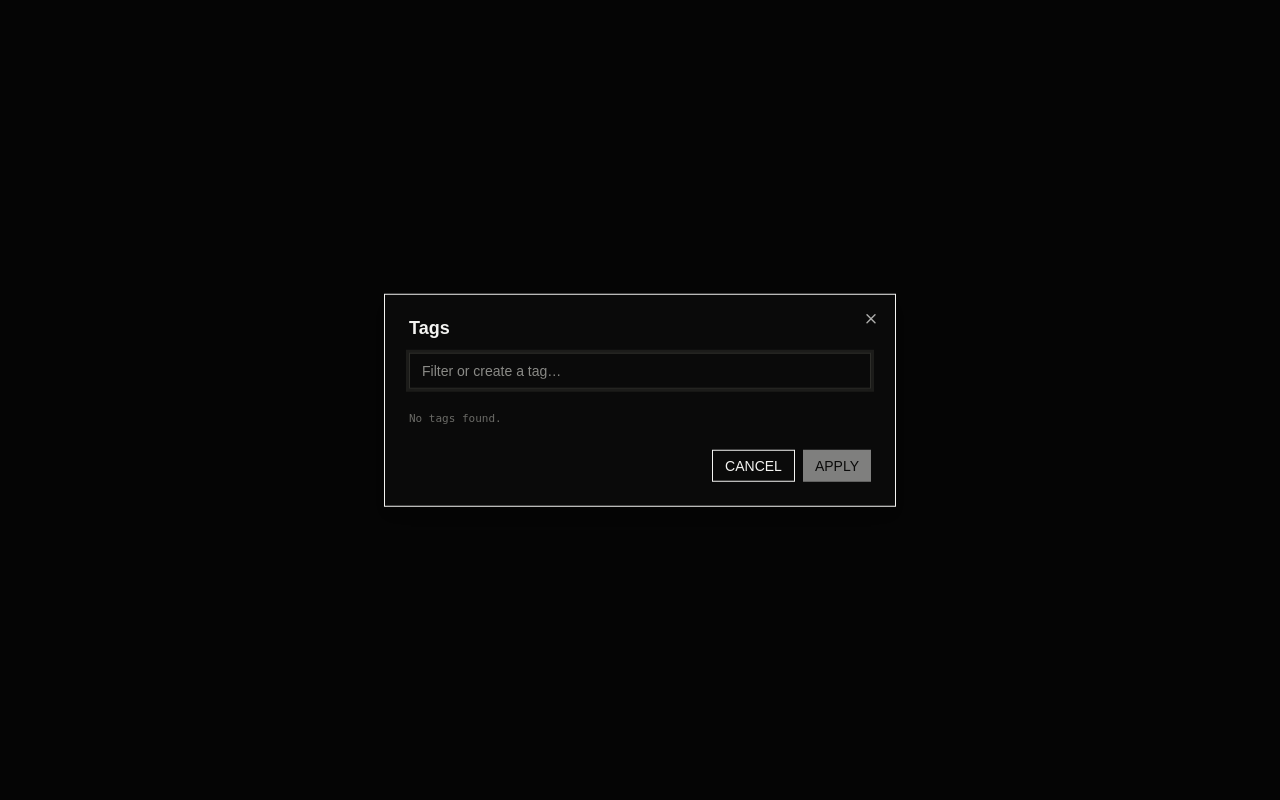
Test: clicking a staged create's checkbox unstages it
Type "Sunset" into the field with placeholder "Filter or create a tag…". click: (640, 371)
box: 409,353 -> 871,389
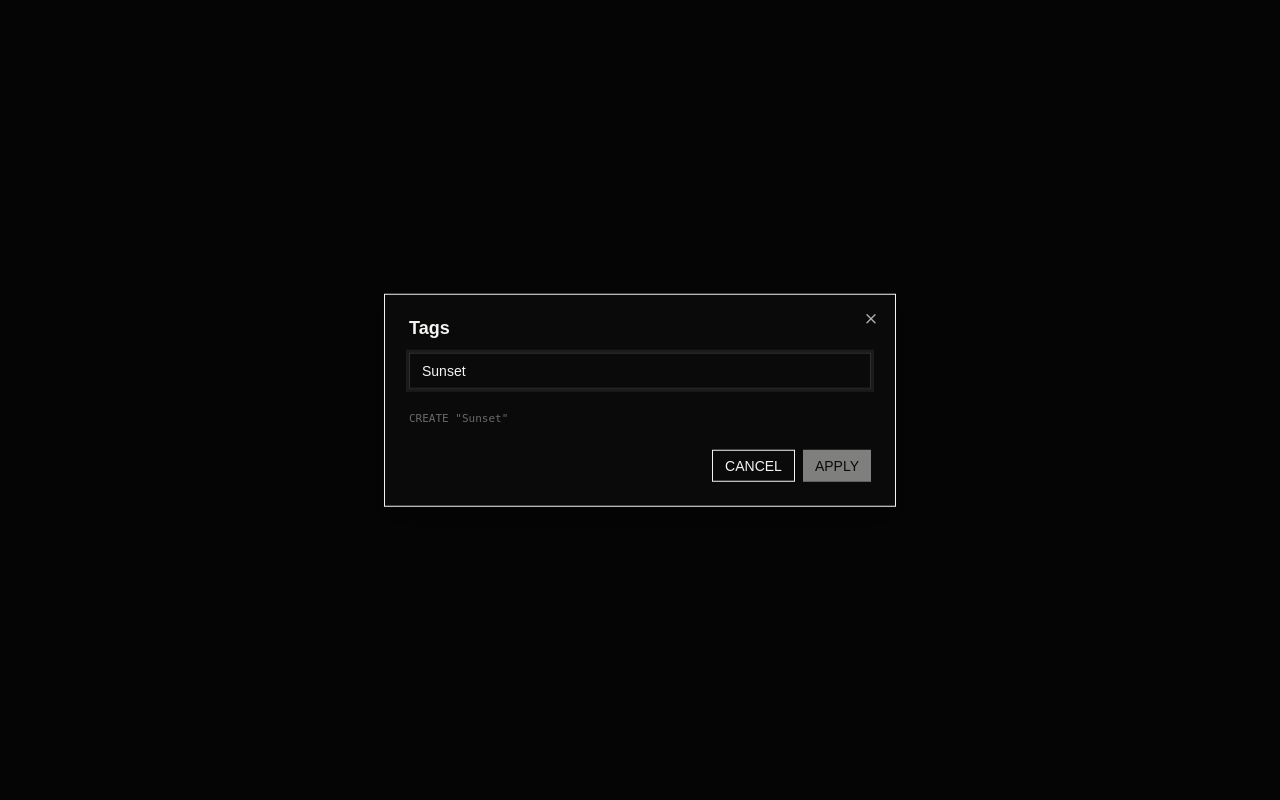
Click the button "CREATE \"Sunset\"". click: (435, 418)
box: 409,405 -> 871,433
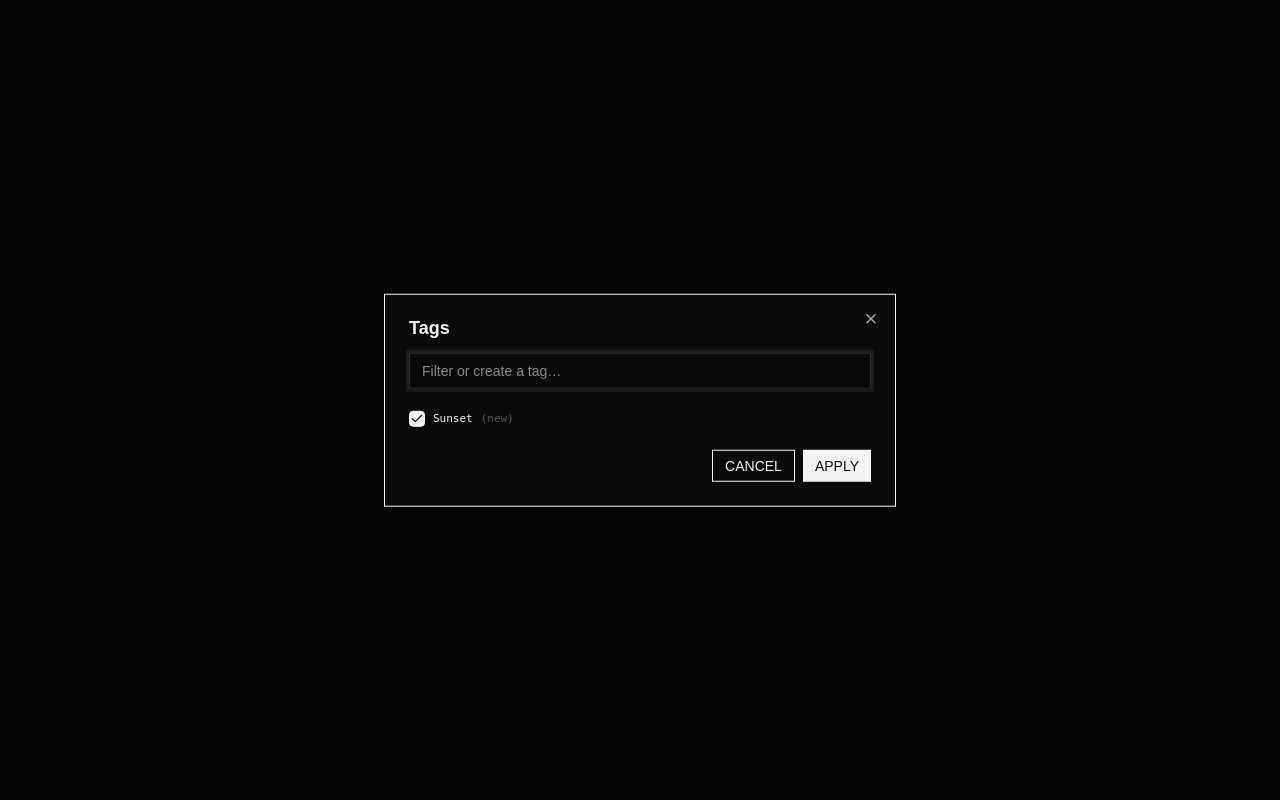
Click the checkbox. click: (417, 419)
box: 409,411 -> 425,427
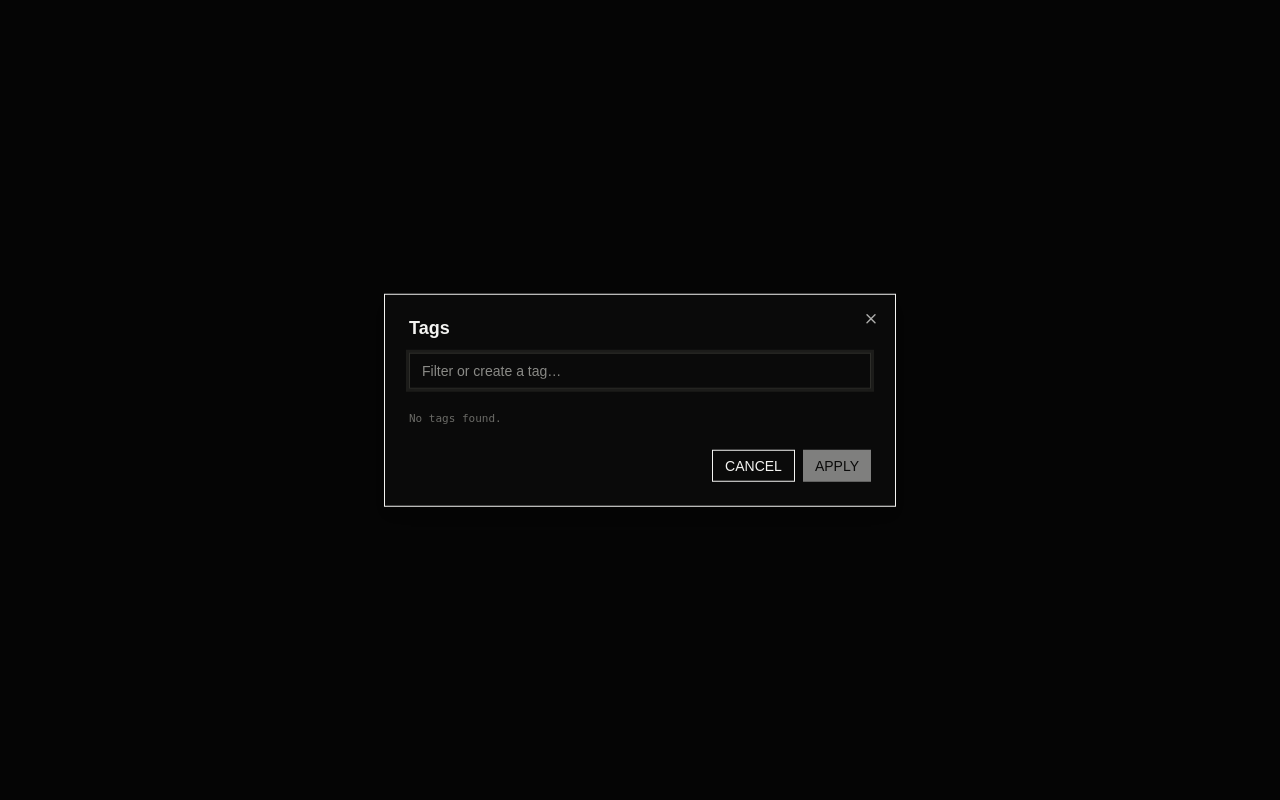
expect the text "Sunset" is gone: met
expect the text "(new)" is gone: met
expect the button "APPLY" is disabled: met, box 803,449 -> 871,481
